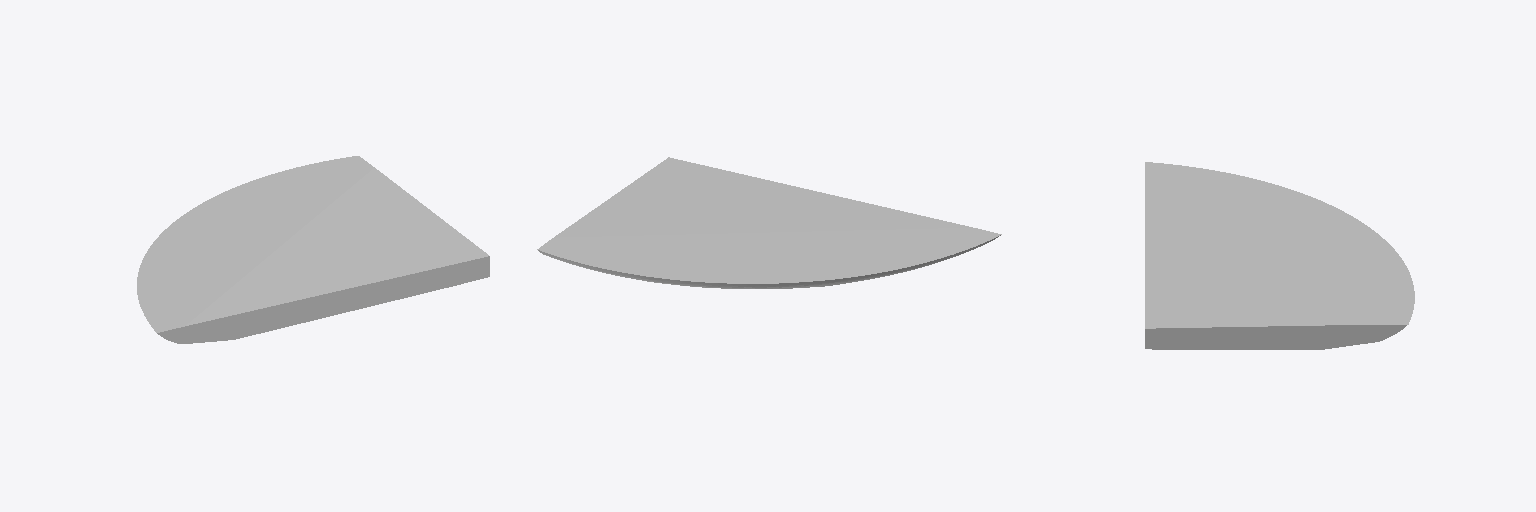
File: pan_collision_2.obj
3 renders of one model, left to right at view 1: azimuth 30°, elevation 25°; view 2: azimuth 150°, elevation 25°; view 3: azimuth 270°, elevation 25°, orthographic.
Bounding box in the file's own units: 0.1281 × 0.0094 × 0.0898.